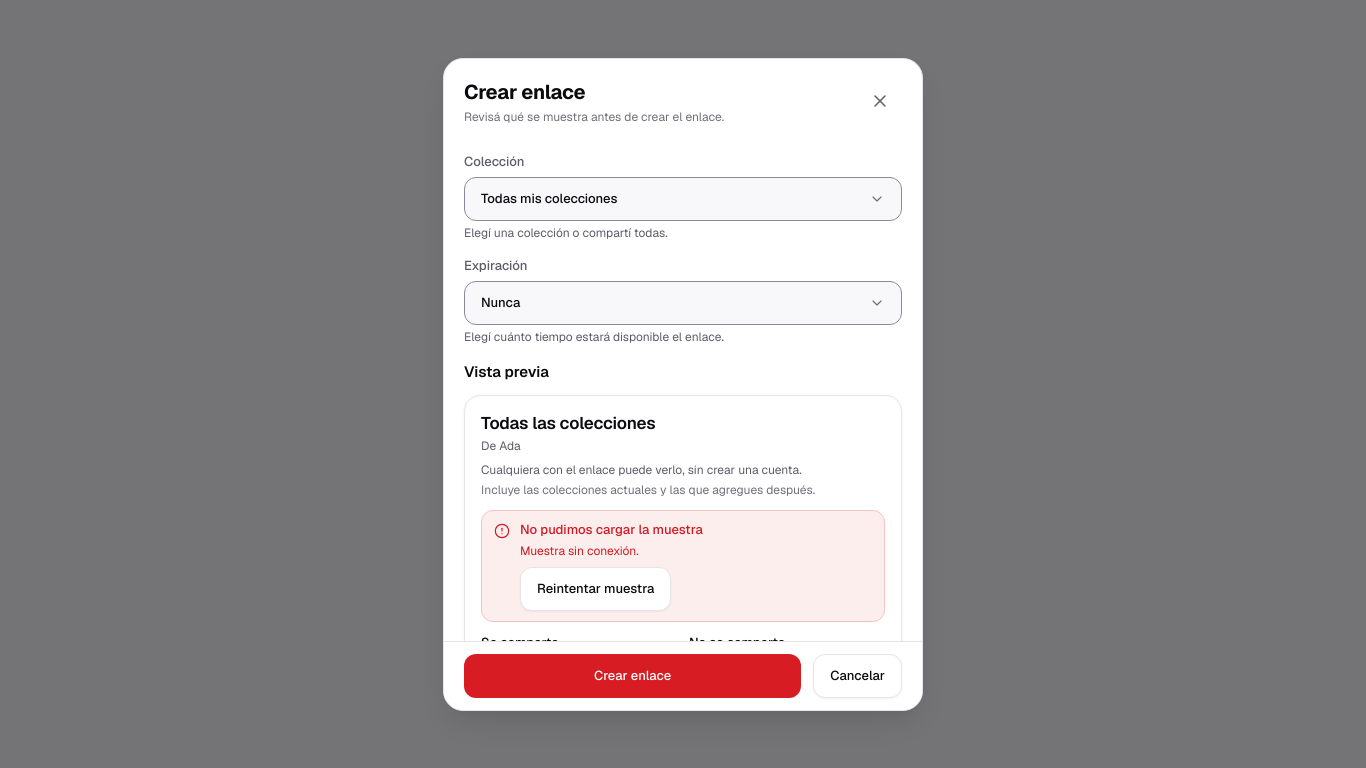
Scenario: flujo privado de compartir › carga/error de muestra no bloquea crear; fecha previa es estimada y la final proviene del servidor
Expected: the text "Muestra sin conexión." is shown, [520, 543, 639, 559]
Click the dropdown named "Expiración": [501, 302] box [464, 281, 902, 325]
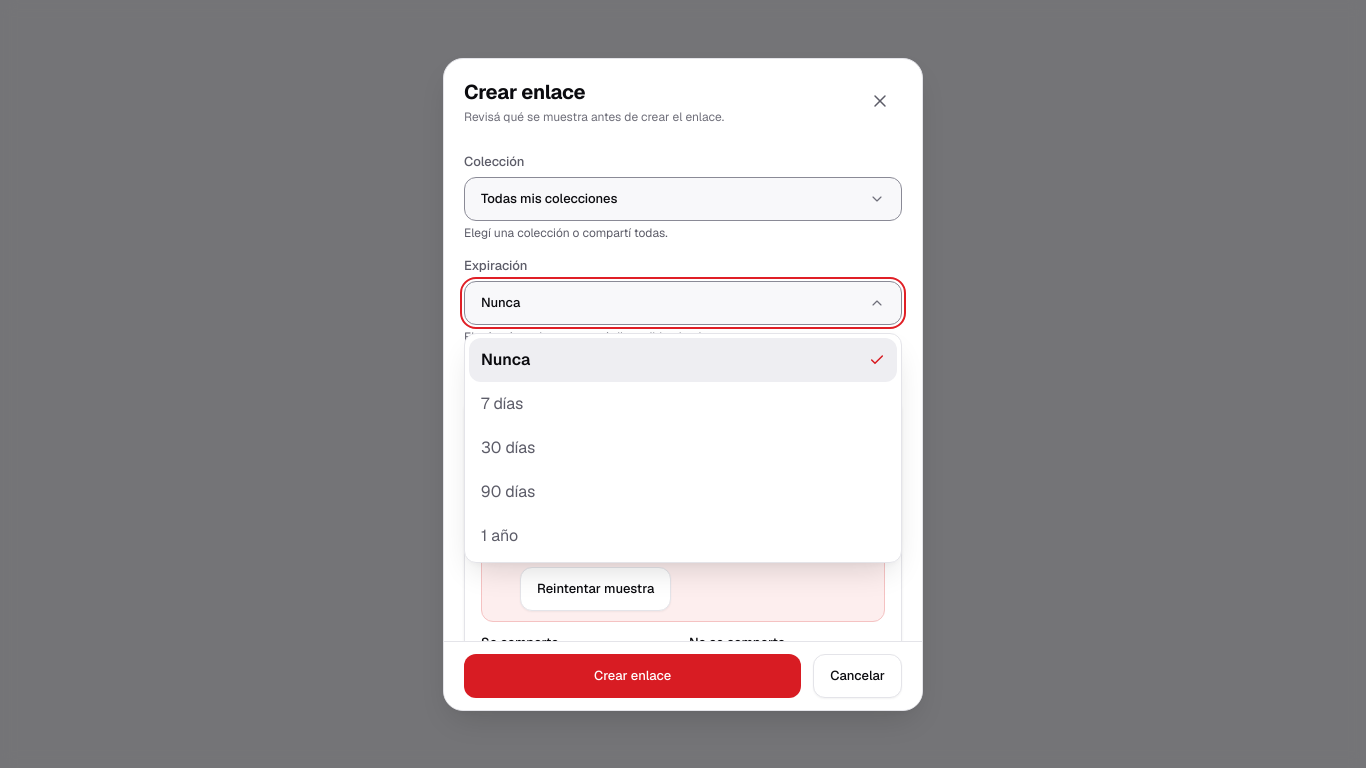
Now the option "7 días" is shown
Click the option "7 días": [502, 404] box [481, 393, 523, 414]
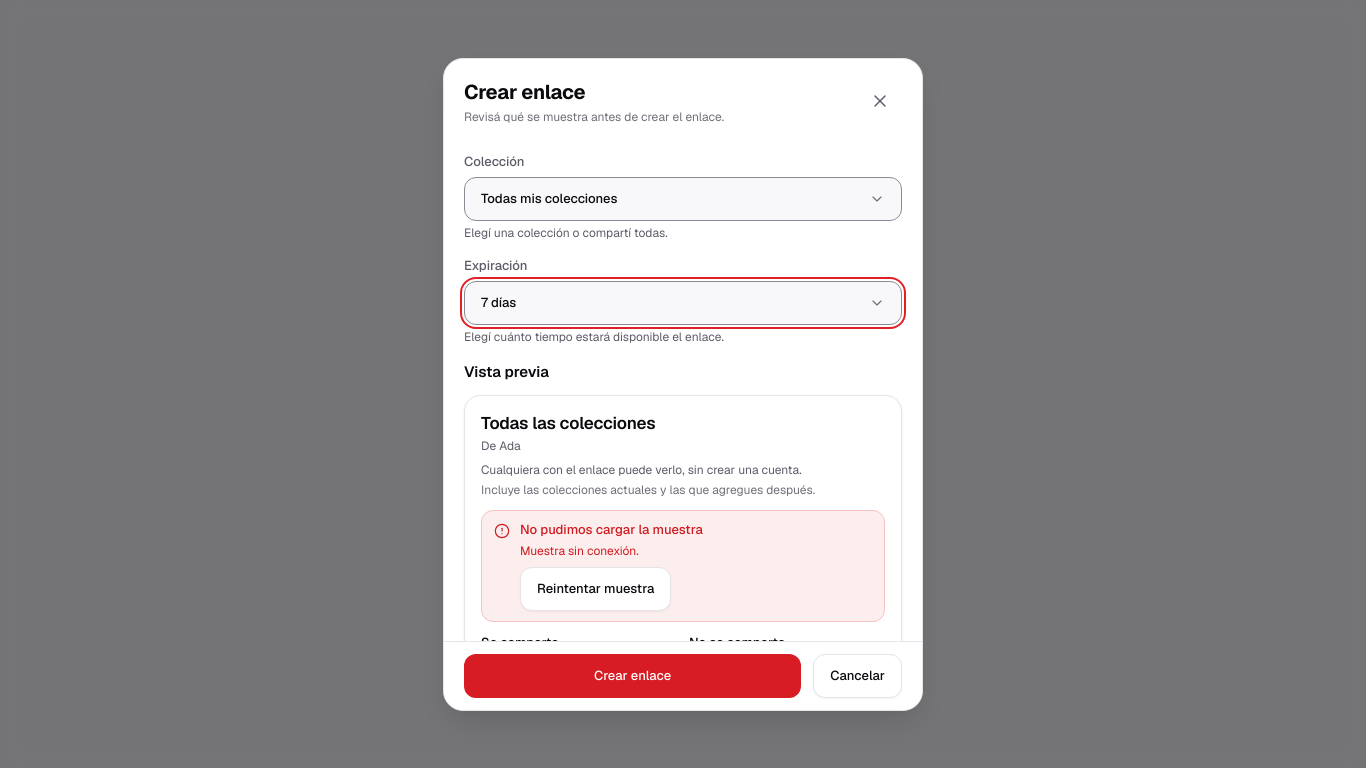
Click the button "Crear enlace": [633, 675] box [464, 653, 801, 697]
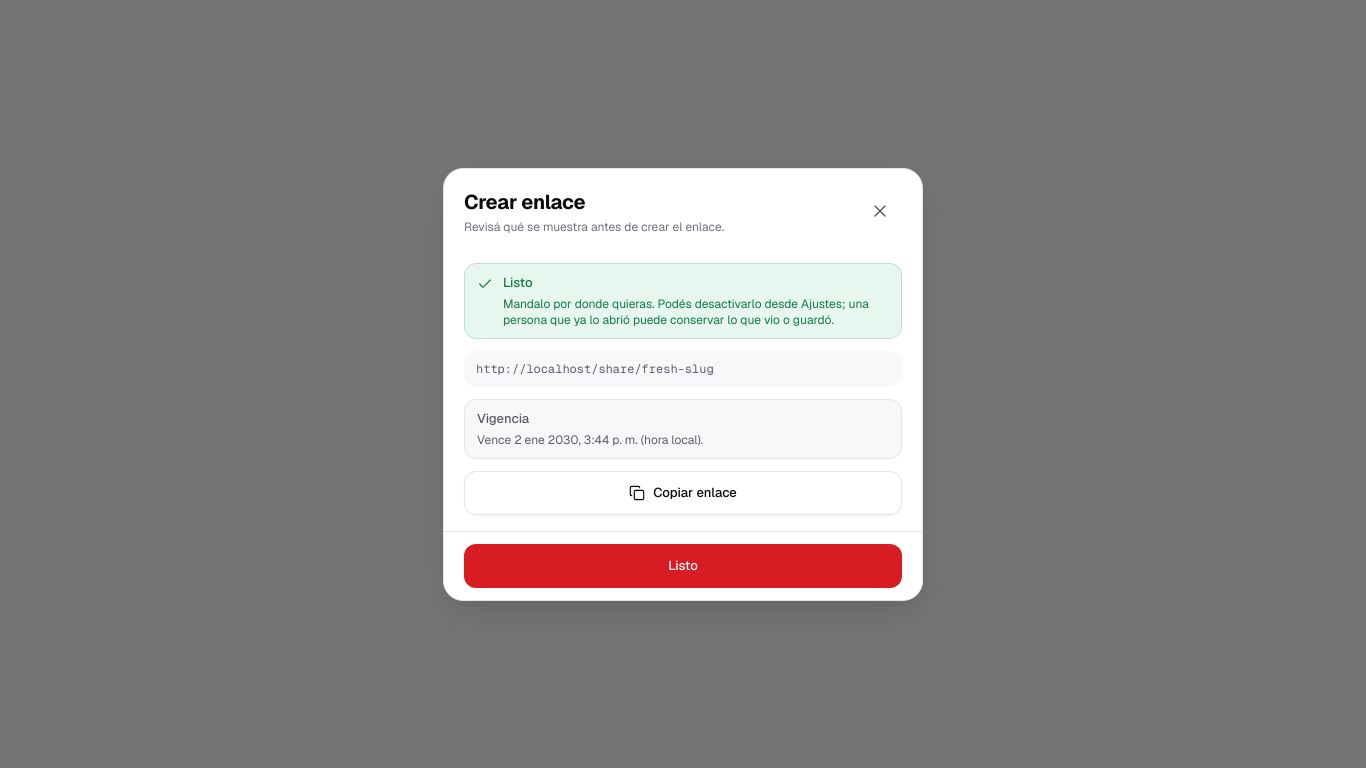
Now the button "Copiar enlace" is shown, box [464, 470, 902, 514]
